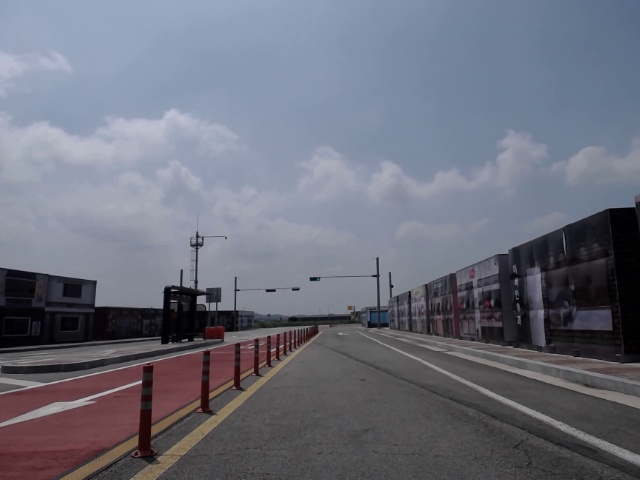green_3: (309, 276, 321, 282)
